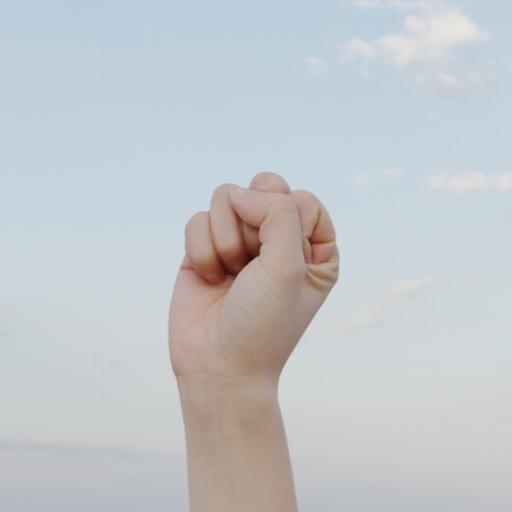S: (151, 164, 349, 392)
